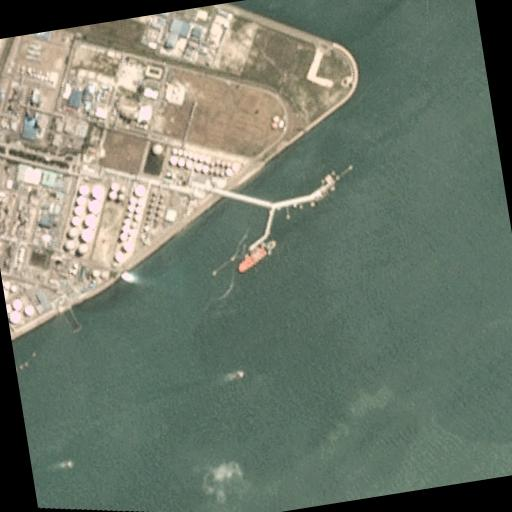ship: (232, 238, 280, 274), (221, 458, 224, 504), (233, 368, 244, 378), (63, 460, 72, 468)
